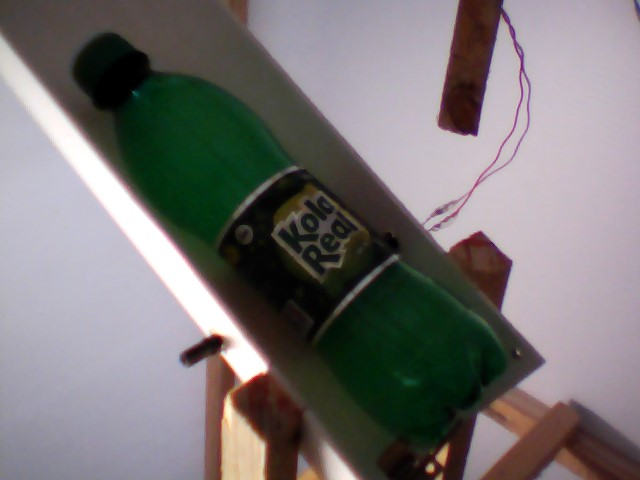plastico: (73, 32, 506, 480)
